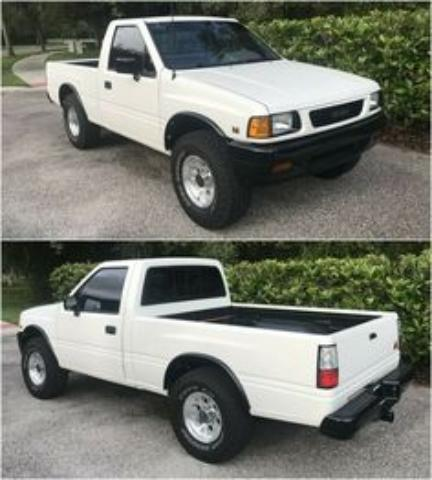pickup-truck: (16, 257, 407, 464), (40, 14, 376, 233)
